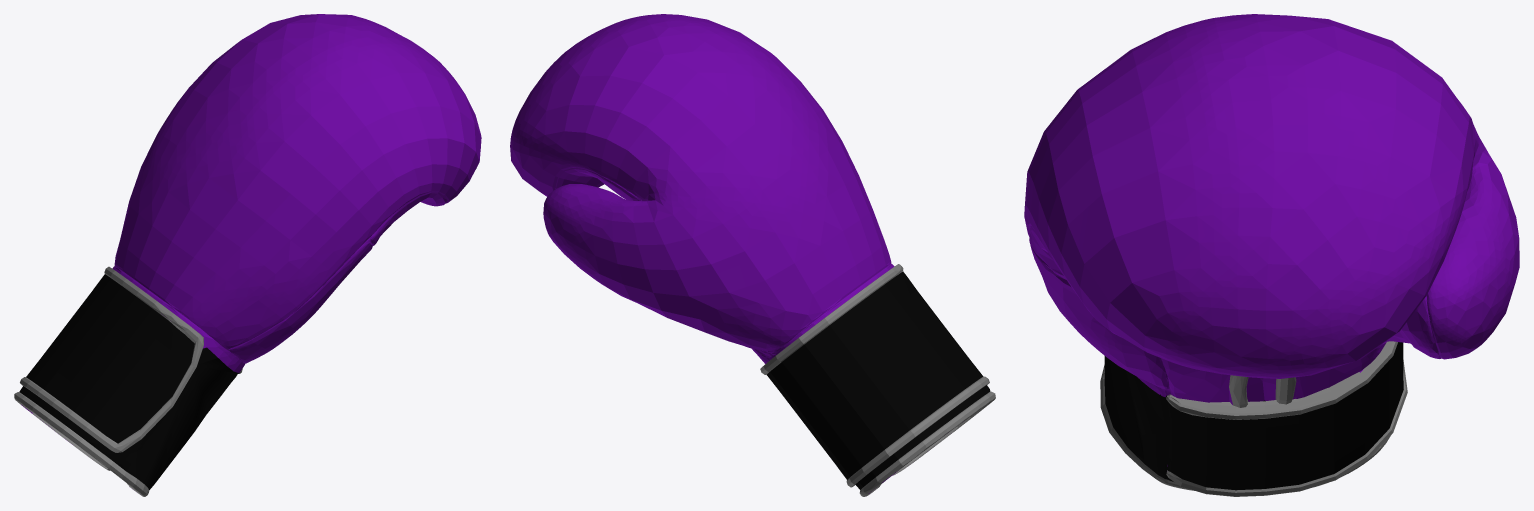
Rendered from Purple_Right.fbx.
3 views of the same model, side by side, from view 1: azimuth 30°, elevation 25°; view 2: azimuth 150°, elevation 25°; view 3: azimuth 270°, elevation 25° (orthographic). The views are drawn at different scales.
Parts seen in each view (by area): view 1: 15969_Boxing_Glove_new; view 2: 15969_Boxing_Glove_new; view 3: 15969_Boxing_Glove_new.
Boxes of the visible parts, x1=… form: 15969_Boxing_Glove_new: x1=14, y1=14, x2=481, y2=496; 15969_Boxing_Glove_new: x1=510, y1=14, x2=995, y2=496; 15969_Boxing_Glove_new: x1=1024, y1=14, x2=1519, y2=496.
Size of the model in its own units: 2146 by 1903 by 1369.
